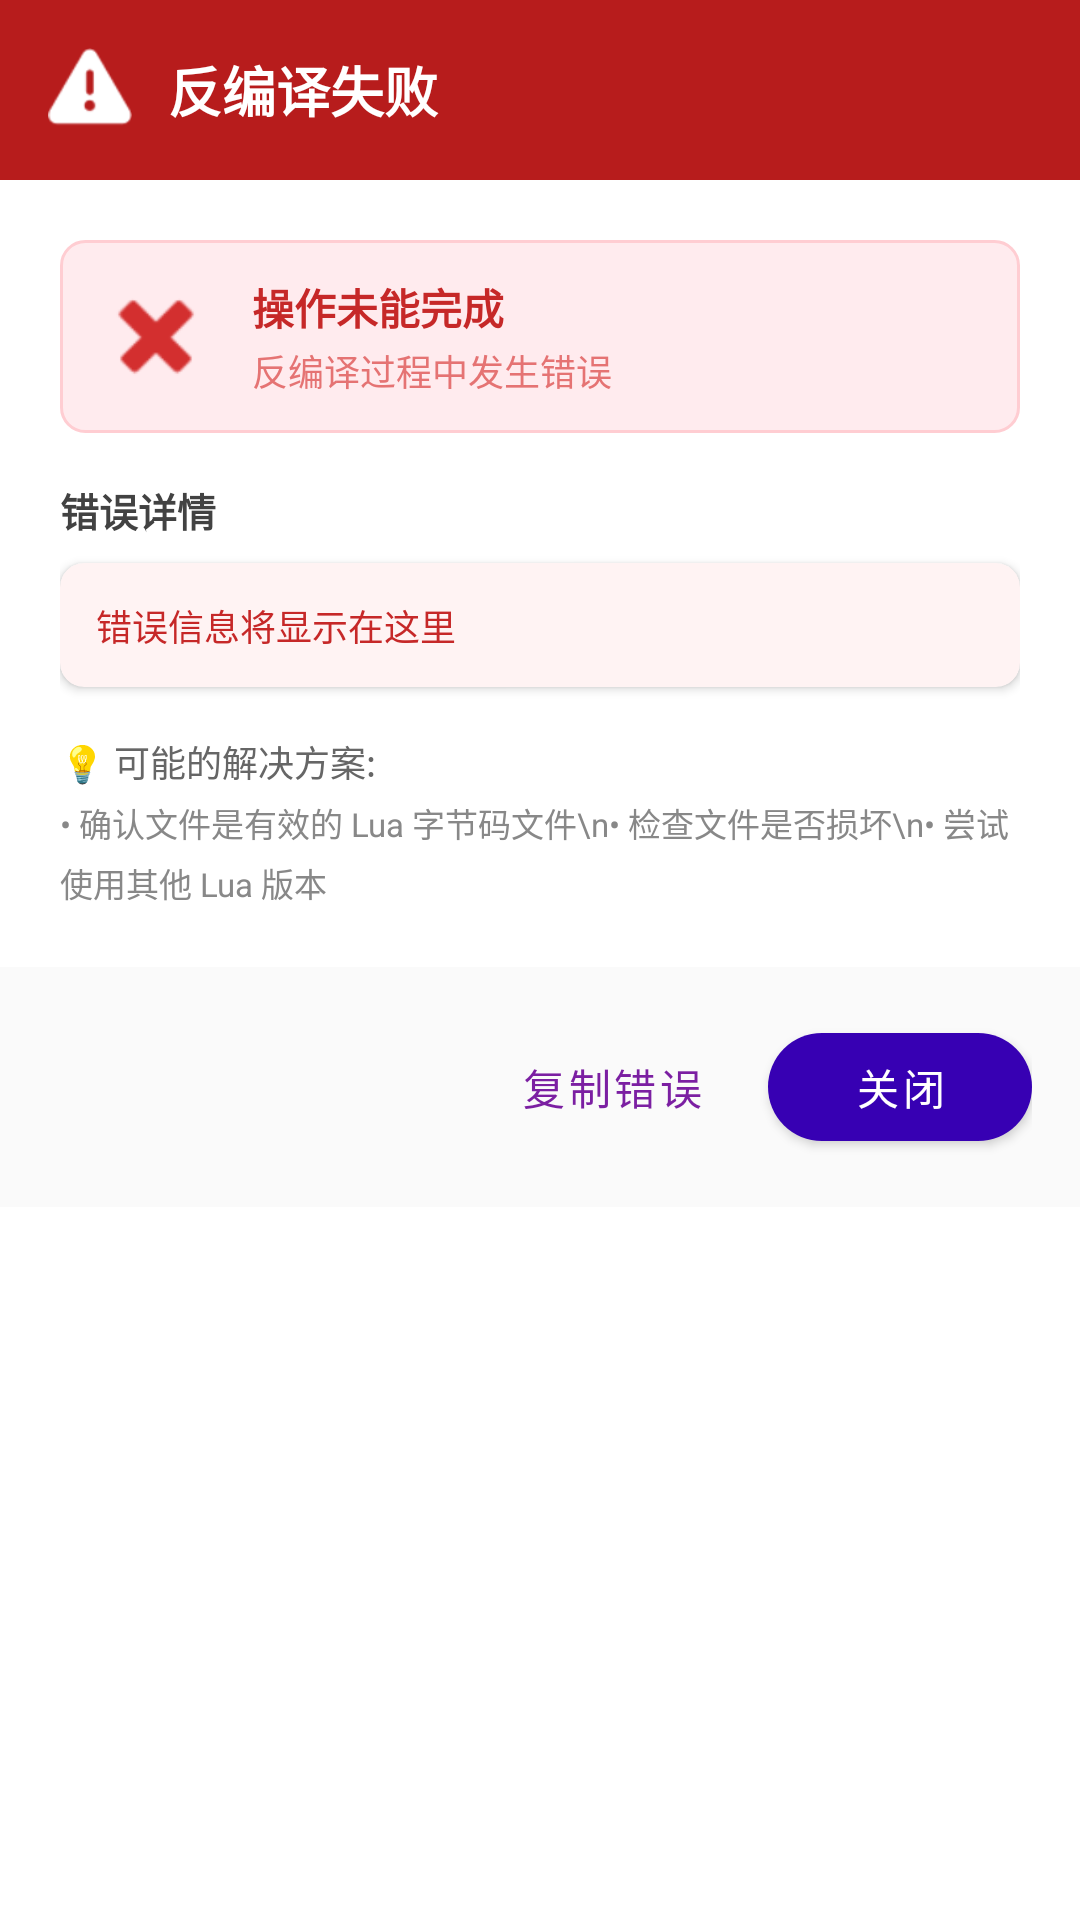

Point at icon controls on the screen. Image size 1080w x 1920h, points as (x=x, y=y).
alert: (x=90, y=86)
delete: (x=156, y=337)
